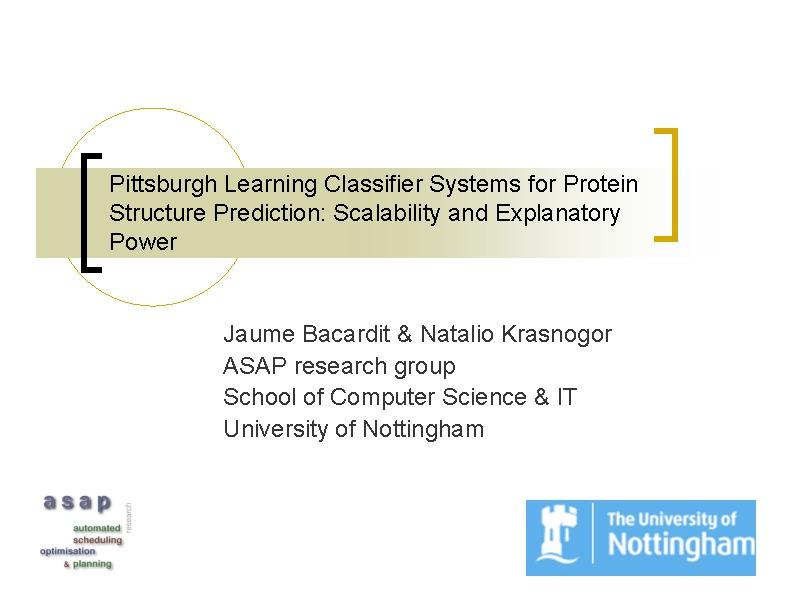subtitle: (202, 311, 646, 462)
title: (103, 164, 645, 257)
